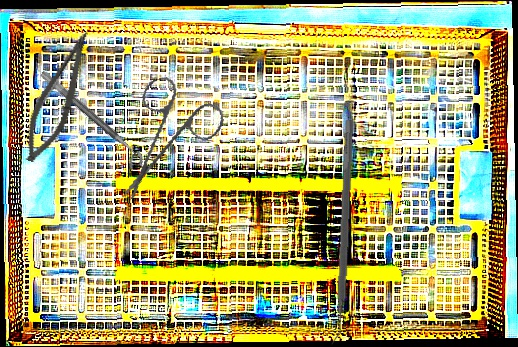Fixation Ring: (32, 69, 148, 174)
Iris Scissors: (98, 66, 237, 202)
Micro Scissor: (15, 24, 99, 169)
Spatula Surgical: (328, 119, 354, 347)
